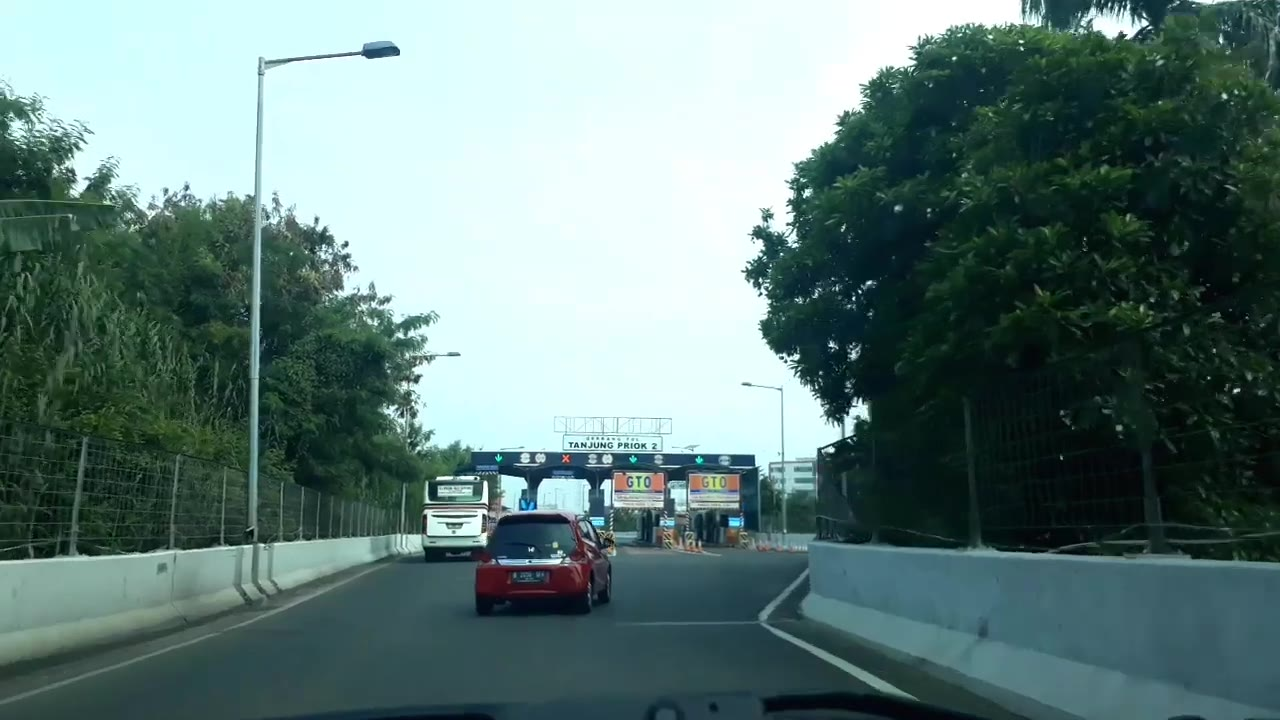plate_positive: (511, 570, 546, 583)
